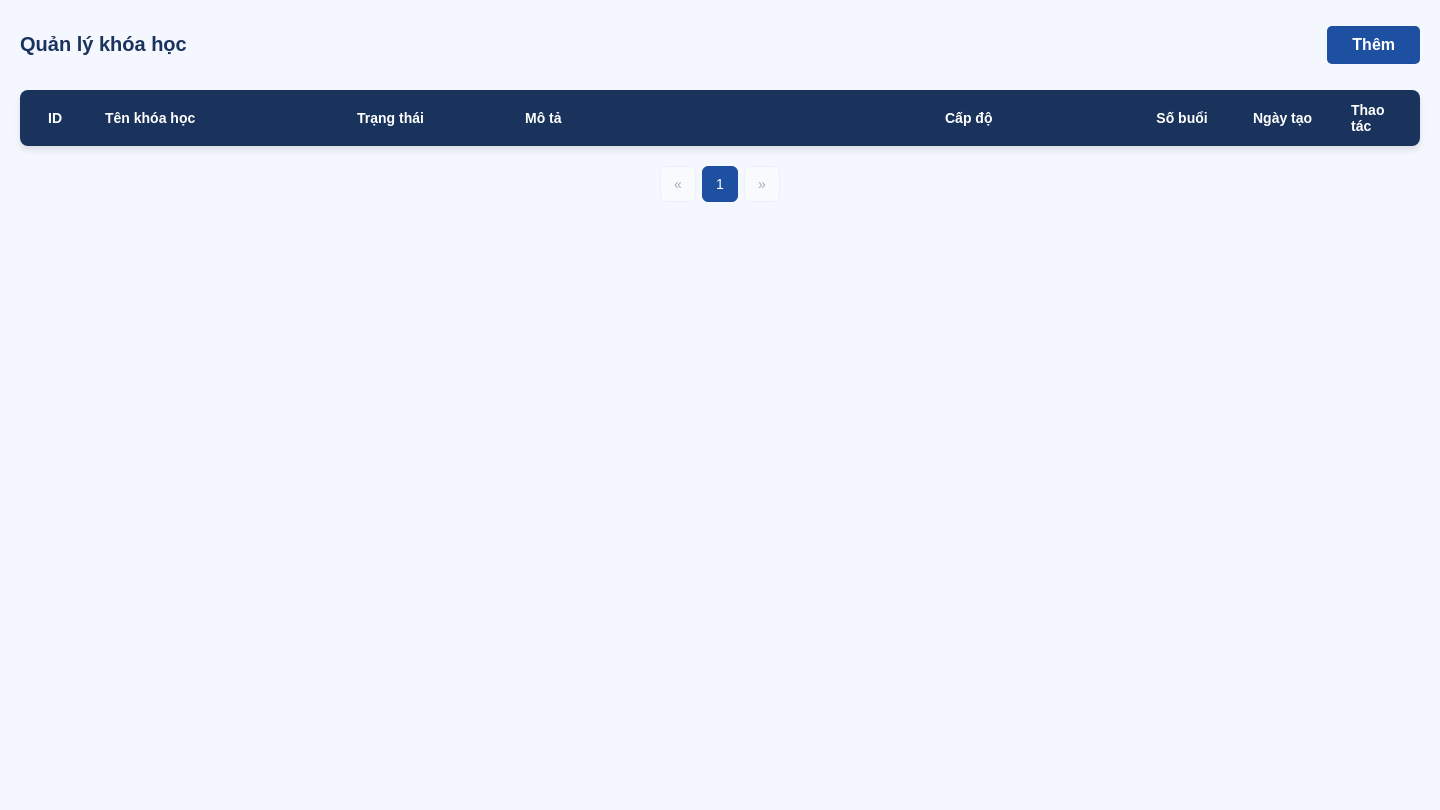
Test case: 2. Validate form › COU-007 lỗi số buổi khi nhập trên 30
Click the button "Thêm": [1374, 45] box left=1327, top=26, right=1420, bottom=64
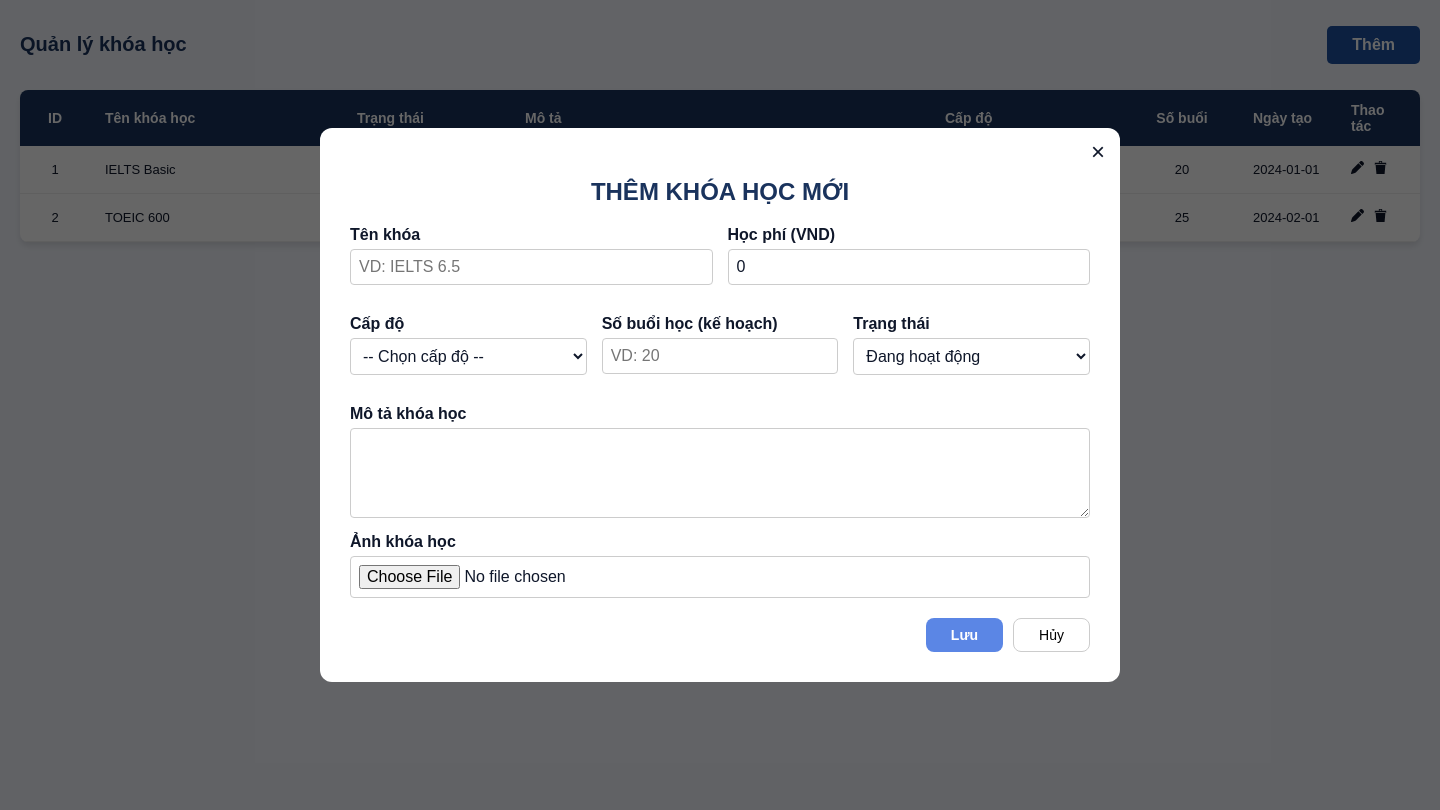
Expected: the heading "THÊM KHÓA HỌC MỚI" is shown, left=591, top=178, right=849, bottom=205
In the field named "name": [531, 267] box left=350, top=249, right=712, bottom=285, type "IELTS Basic"
Select "Beginner" in the 1st dropdown named "level": [468, 356] box left=350, top=338, right=587, bottom=375
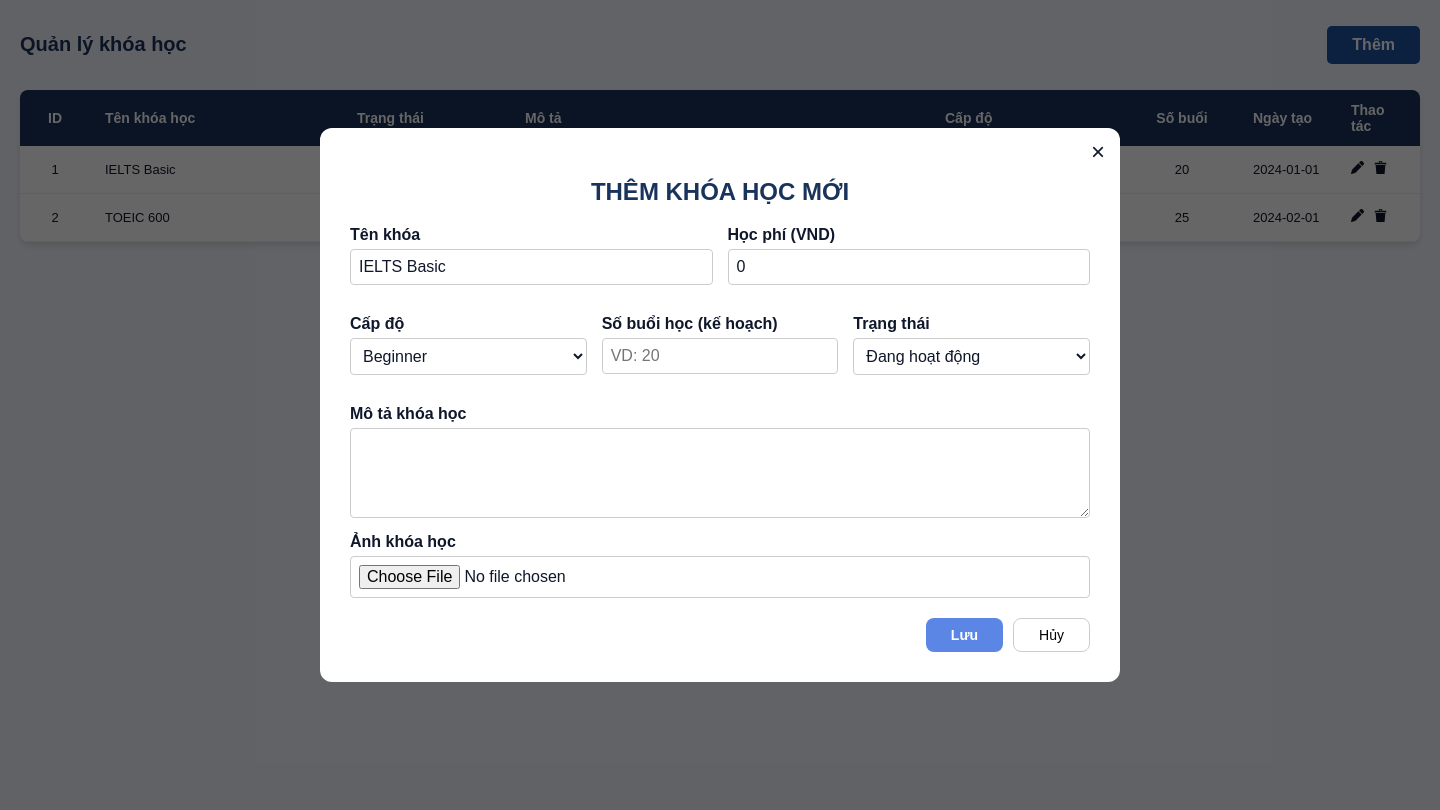
In the text box named "description": [720, 473] box left=350, top=428, right=1090, bottom=518, type "Mô tả khóa học"
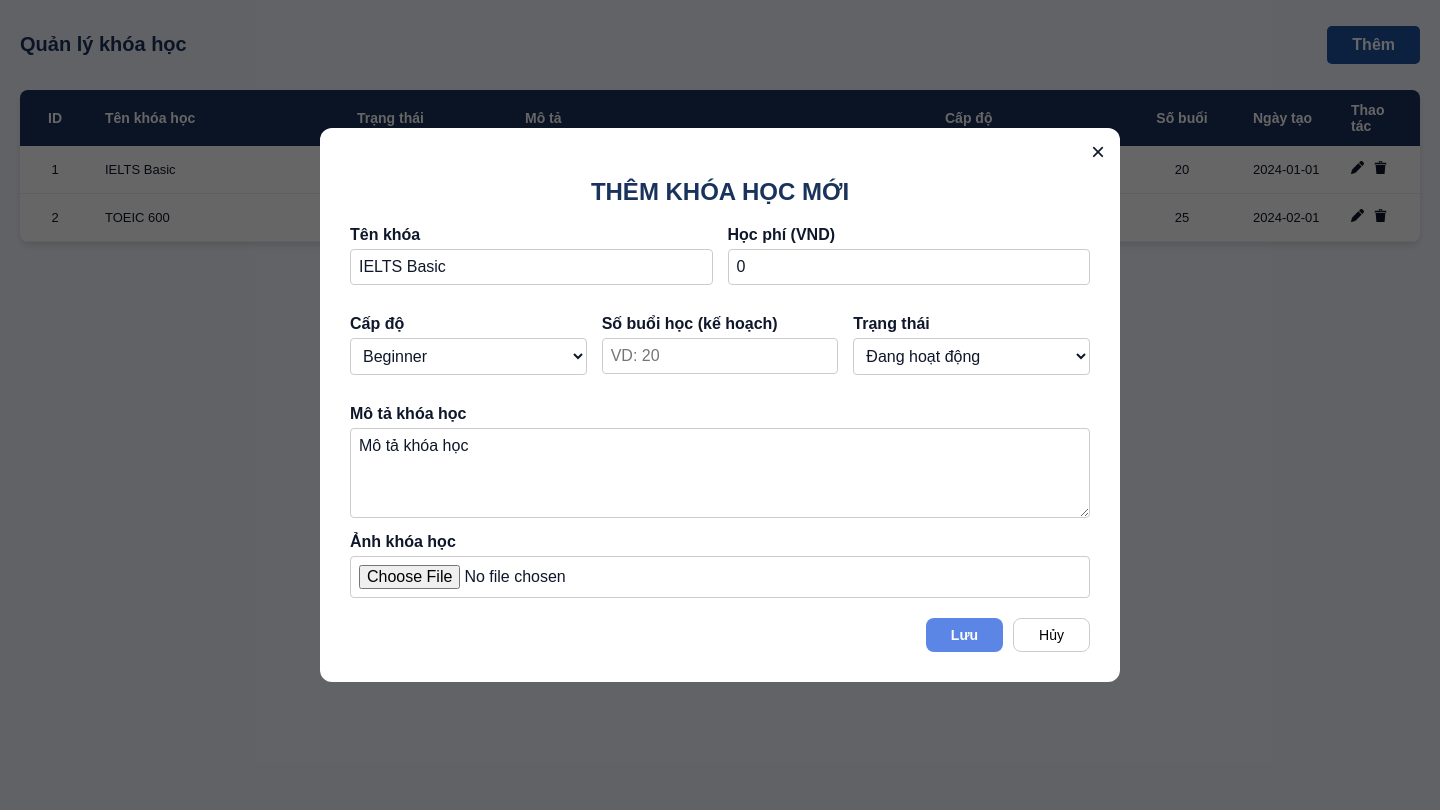
Replace the text in the field named "price" below "Học phí (VND)" with "3000000": [909, 267] box left=728, top=249, right=1090, bottom=285
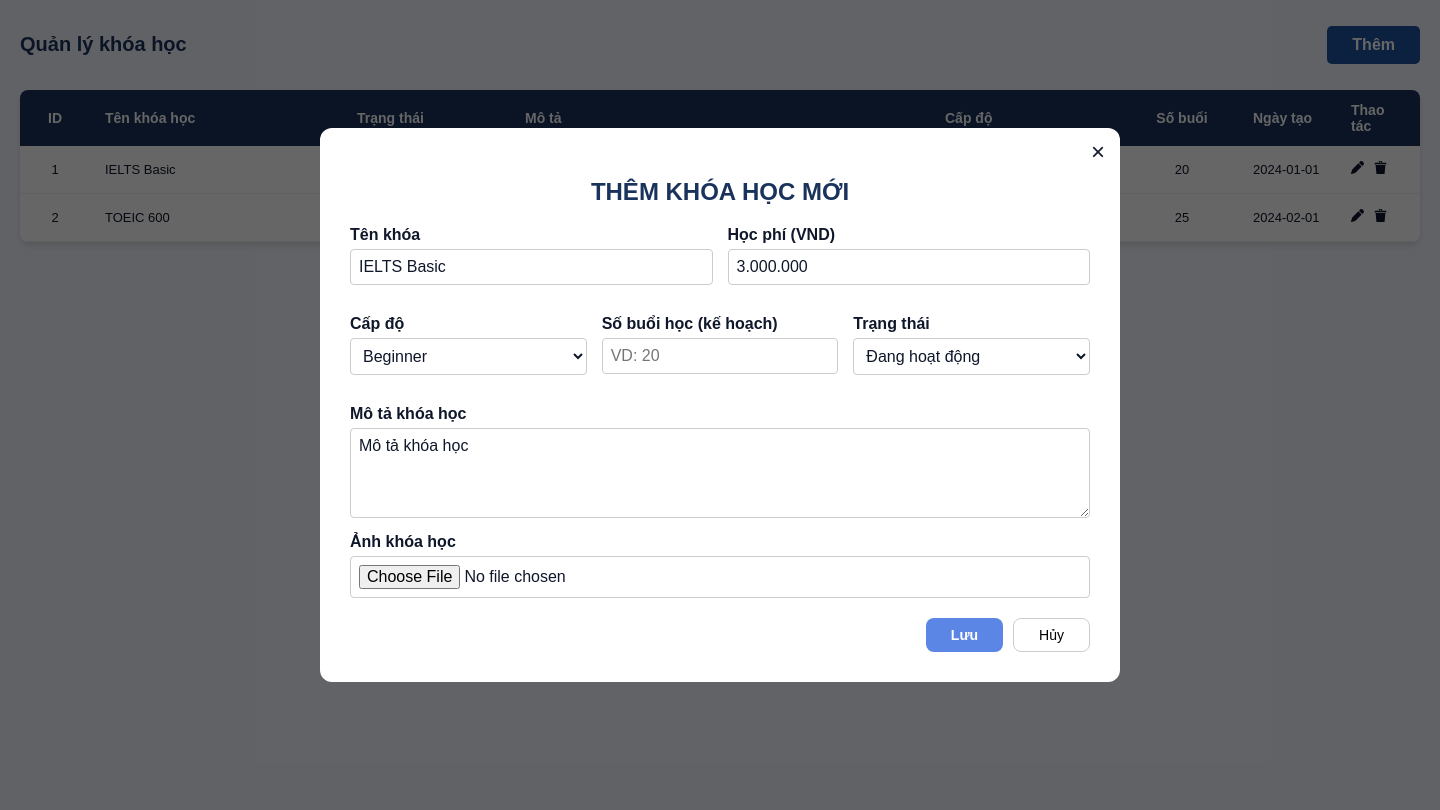
In the number field named "total_sessions": [720, 356] box left=602, top=338, right=838, bottom=374, type "35"
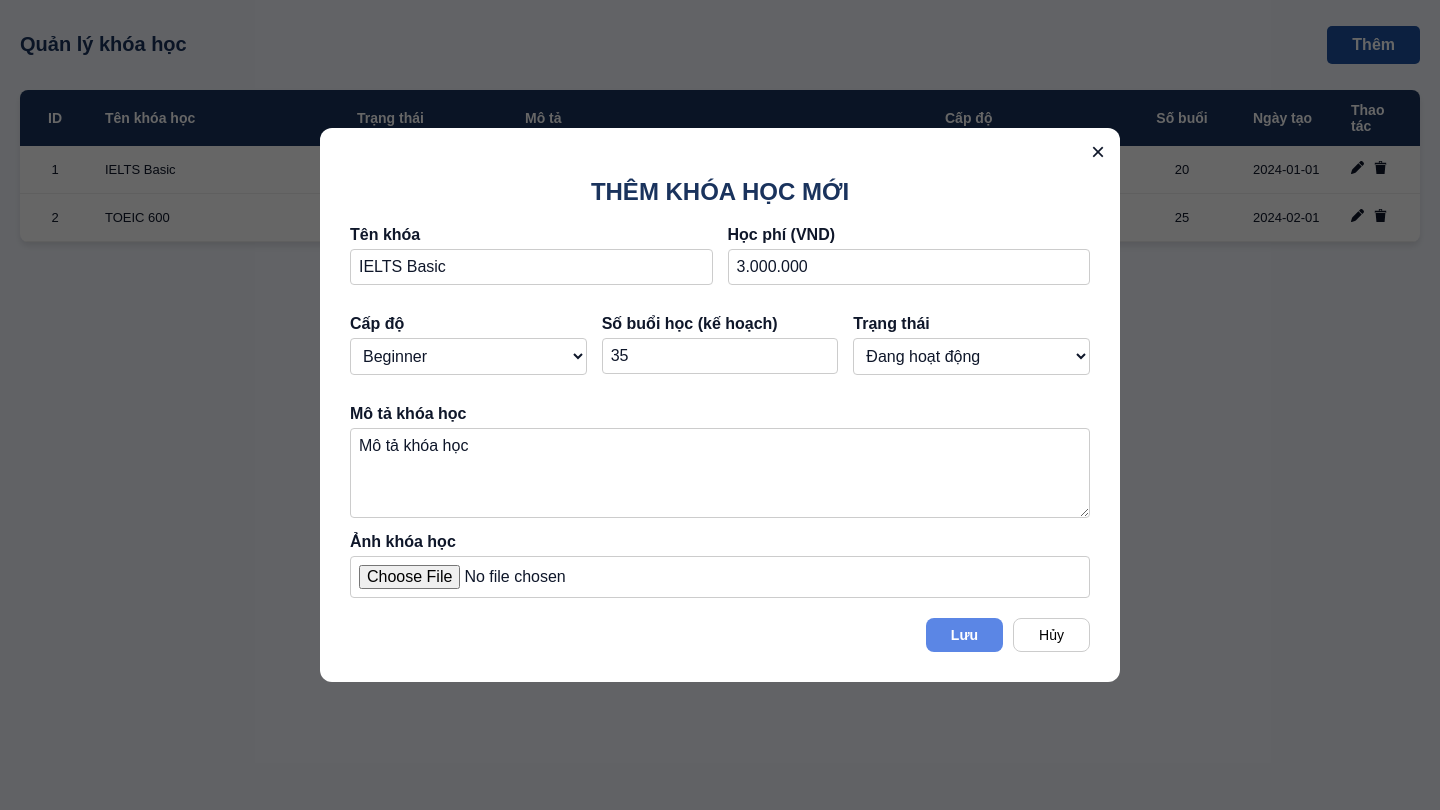
Click the button "Lưu": [964, 635] box left=926, top=618, right=1003, bottom=652
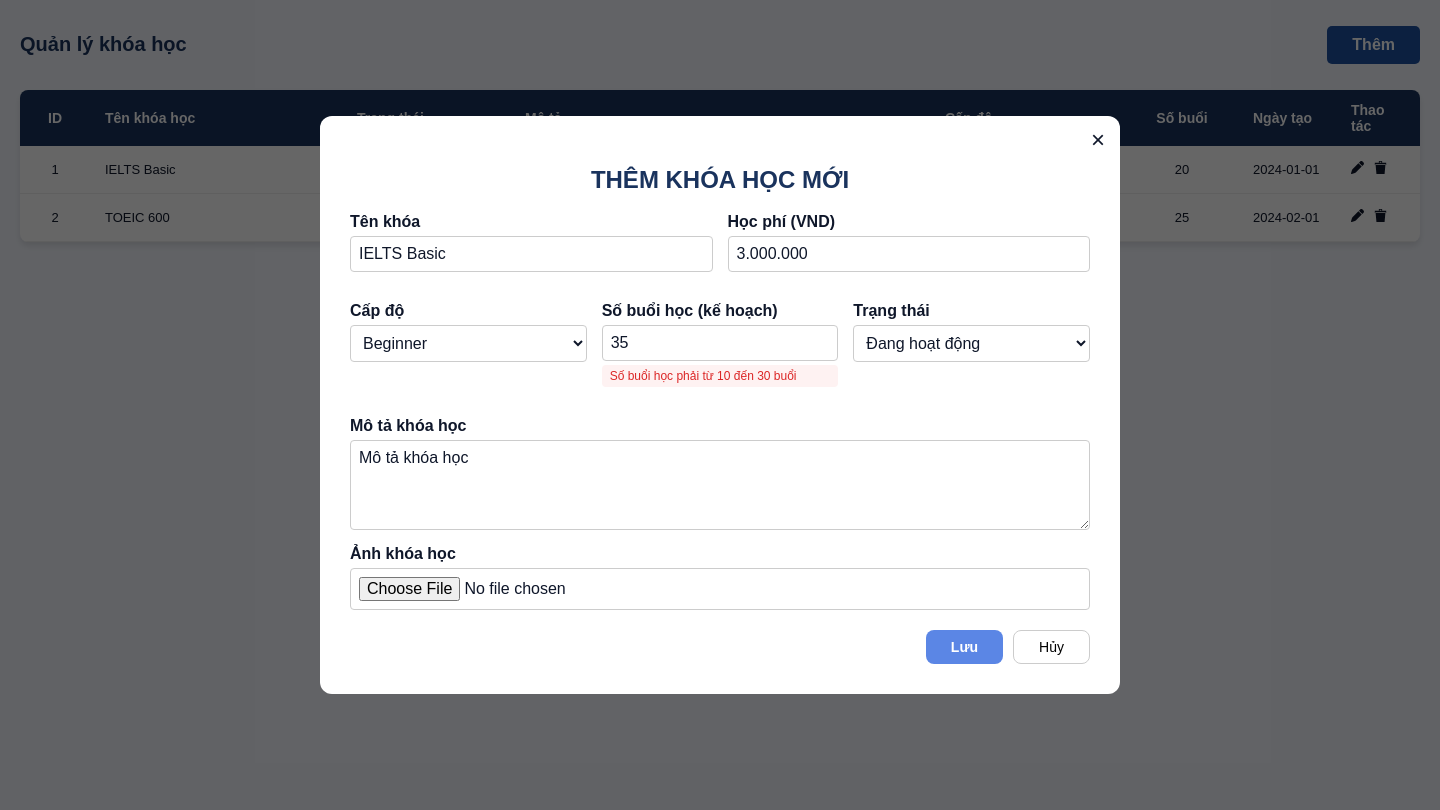
Expected: the text "Số buổi học phải từ 10 đến 30 buổi" is shown, left=602, top=365, right=838, bottom=387
